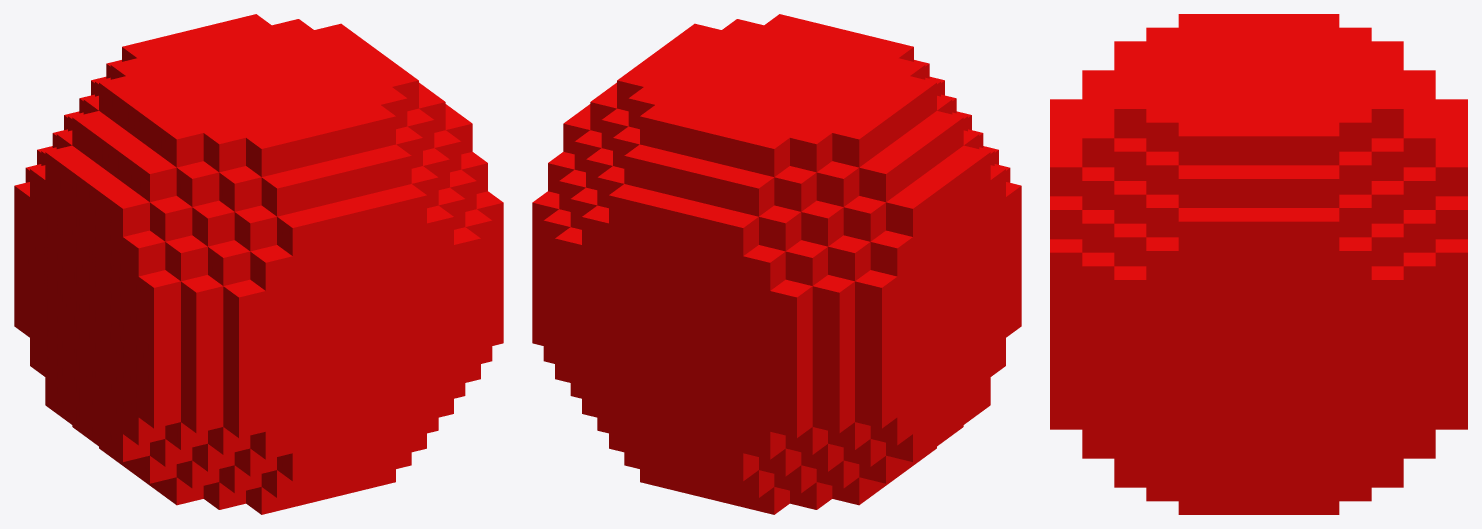
File: enemy.gltf
The picture shows the model from 3 angles, left to right: view 1: azimuth 30°, elevation 25°; view 2: azimuth 150°, elevation 25°; view 3: azimuth 270°, elevation 25°; orthographic projection. The views are drawn at different scales.
Visible parts, largest first — view 1: Layer.1; view 2: Layer.1; view 3: Layer.1.
Boxes of the visible parts, x1,y1,x2,y2 form: Layer.1: (14,14,503,514); Layer.1: (532,14,1021,514); Layer.1: (1050,14,1467,514).
Size of the model in its own units: 13 by 13 by 13.
Materials: 1 (1 with a texture image).
